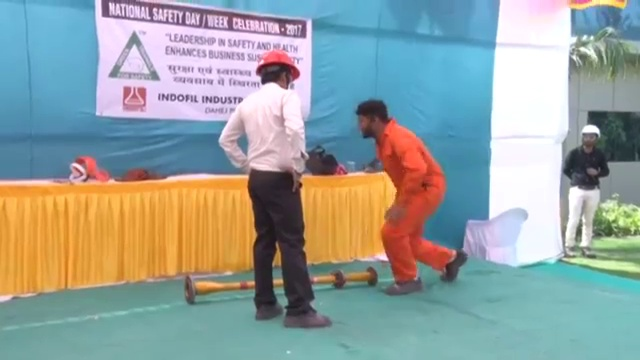helmet: (254, 48, 301, 80), (579, 123, 603, 139)
helmet_off: (354, 100, 390, 140)
helmet_on: (254, 48, 301, 92), (577, 122, 602, 156)
person: (217, 47, 334, 327), (353, 99, 464, 294), (562, 121, 611, 264)
